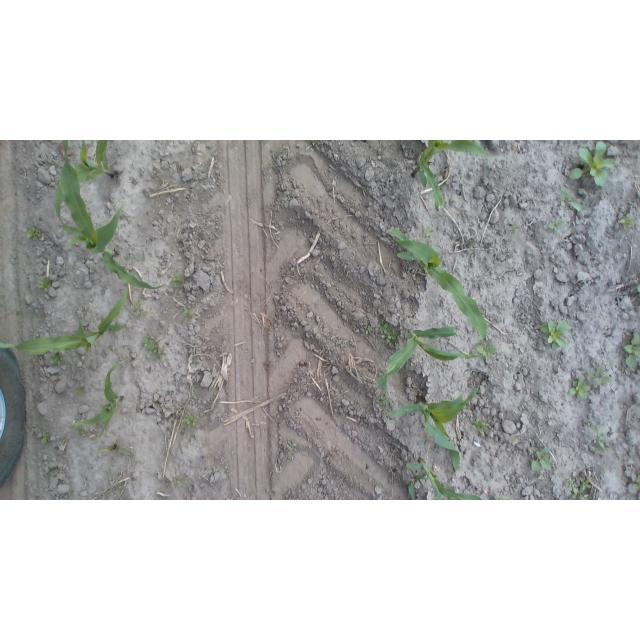Maize: (56, 141, 165, 290), (384, 224, 490, 340), (0, 283, 130, 356), (386, 380, 482, 472), (373, 326, 496, 394), (411, 140, 488, 214), (53, 141, 118, 222), (72, 358, 132, 443), (406, 456, 484, 500), (94, 442, 137, 461)
Weeds: (568, 141, 619, 188), (540, 319, 573, 351), (138, 333, 168, 361), (622, 330, 640, 372), (567, 475, 594, 500), (560, 187, 585, 213), (588, 365, 615, 388), (377, 321, 399, 348), (475, 340, 499, 364), (568, 379, 593, 402), (530, 447, 552, 473), (589, 425, 608, 455), (617, 211, 638, 229), (471, 418, 489, 439), (26, 225, 43, 242), (182, 411, 199, 427), (172, 272, 187, 290), (375, 390, 390, 408), (420, 225, 436, 240), (37, 276, 51, 293), (50, 354, 67, 367), (549, 220, 563, 234), (182, 305, 194, 321), (74, 425, 87, 439), (286, 440, 296, 457), (39, 429, 50, 444), (74, 385, 86, 398), (174, 476, 187, 488), (508, 223, 521, 233), (632, 475, 640, 490), (139, 308, 150, 318), (131, 300, 141, 311), (47, 469, 58, 478), (364, 326, 372, 337), (67, 487, 76, 496), (469, 240, 478, 249), (118, 481, 124, 490), (312, 141, 318, 148), (155, 403, 161, 408)
